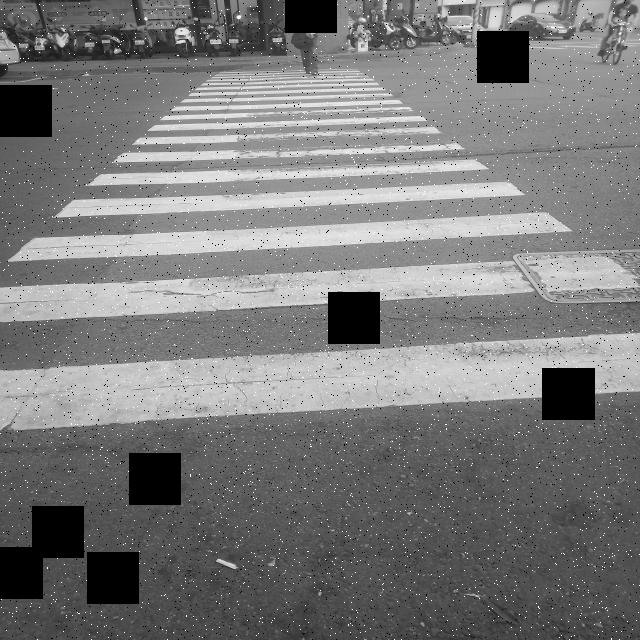zebra_crossing: (209, 0, 220, 196), (153, 0, 456, 0)
